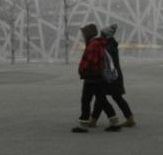person: (83, 23, 136, 129), (71, 23, 122, 133)
